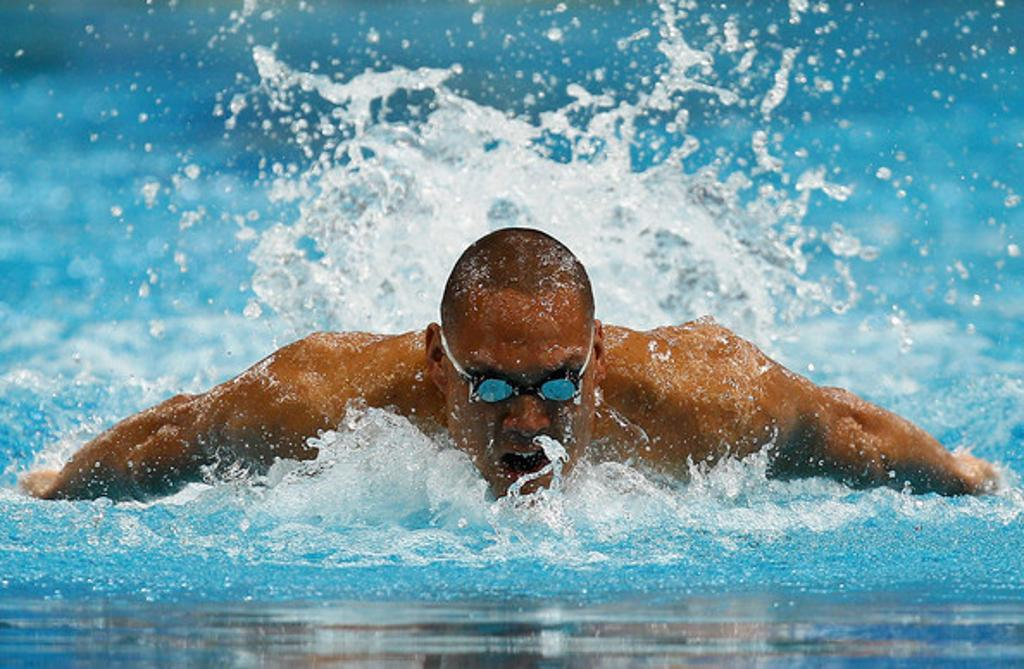face: (456, 322, 594, 512)
